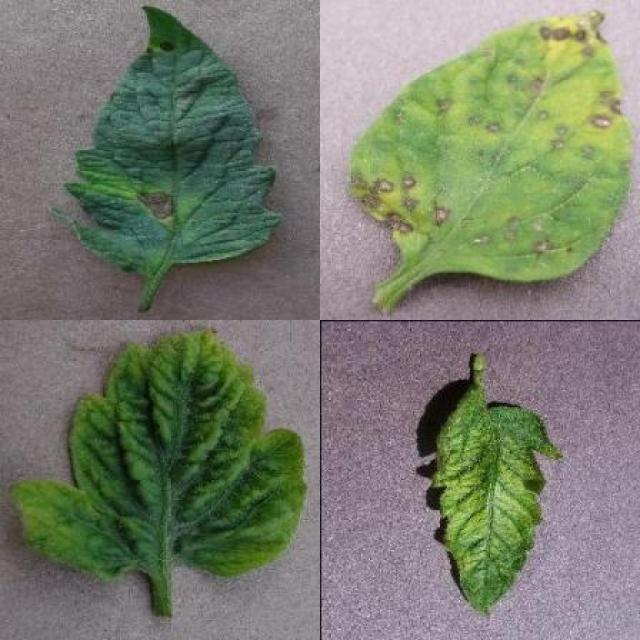Early Blight: (55, 5, 284, 272)
Mosaic Virus: (429, 388, 560, 618)
Septoria: (347, 11, 633, 282)
Yellow Leaf Curl Virus: (11, 325, 310, 582)
